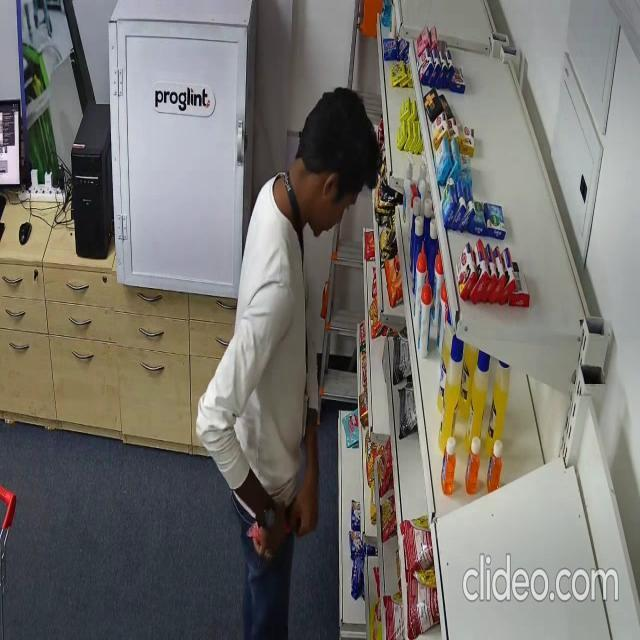Shoplifting: (198, 86, 382, 640)
